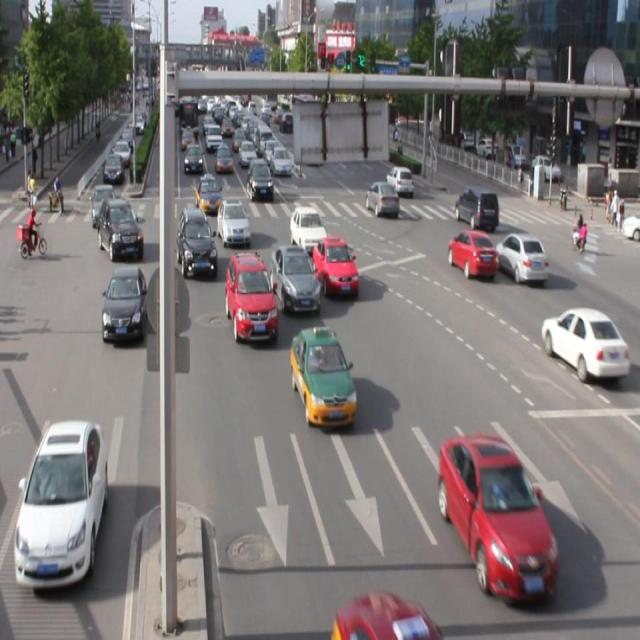car: (437, 436, 558, 602), (14, 420, 108, 584), (290, 325, 357, 429), (540, 306, 627, 378), (225, 251, 278, 344), (101, 263, 148, 345), (271, 244, 322, 314), (312, 237, 359, 300), (178, 208, 218, 278), (494, 232, 547, 282), (447, 229, 497, 281), (453, 186, 498, 230), (216, 197, 252, 246), (290, 205, 327, 252)
